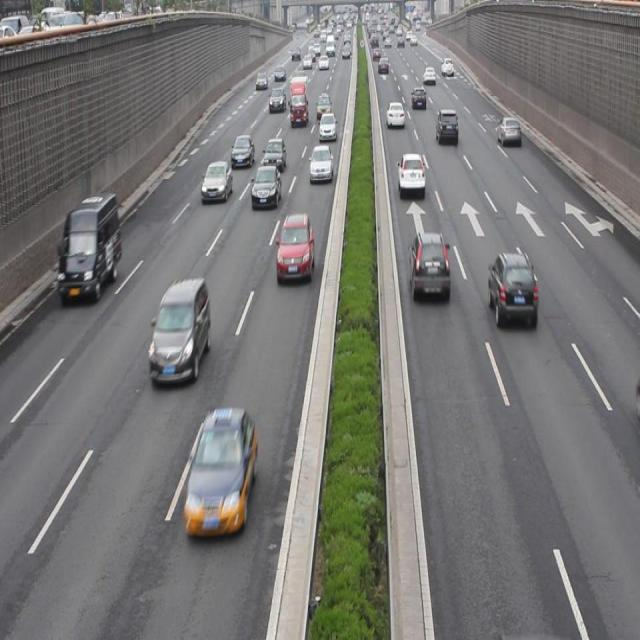car: (184, 408, 257, 536), (488, 250, 537, 328), (409, 232, 450, 302), (276, 212, 315, 285), (201, 160, 233, 203), (251, 164, 281, 209), (396, 152, 426, 194), (309, 144, 332, 183), (435, 108, 458, 146), (262, 136, 286, 172), (230, 134, 255, 168), (497, 115, 521, 146), (318, 111, 336, 143), (386, 101, 405, 129)
truck: (57, 194, 122, 304), (148, 276, 210, 386)
